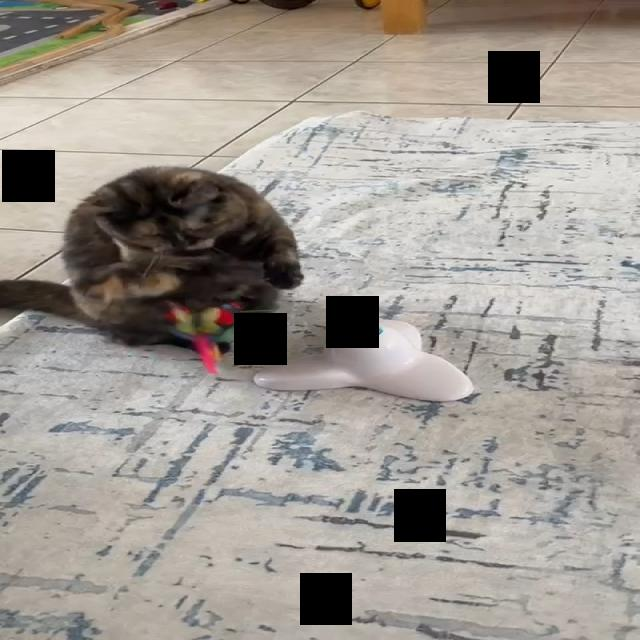authorized: (0, 165, 304, 347)
